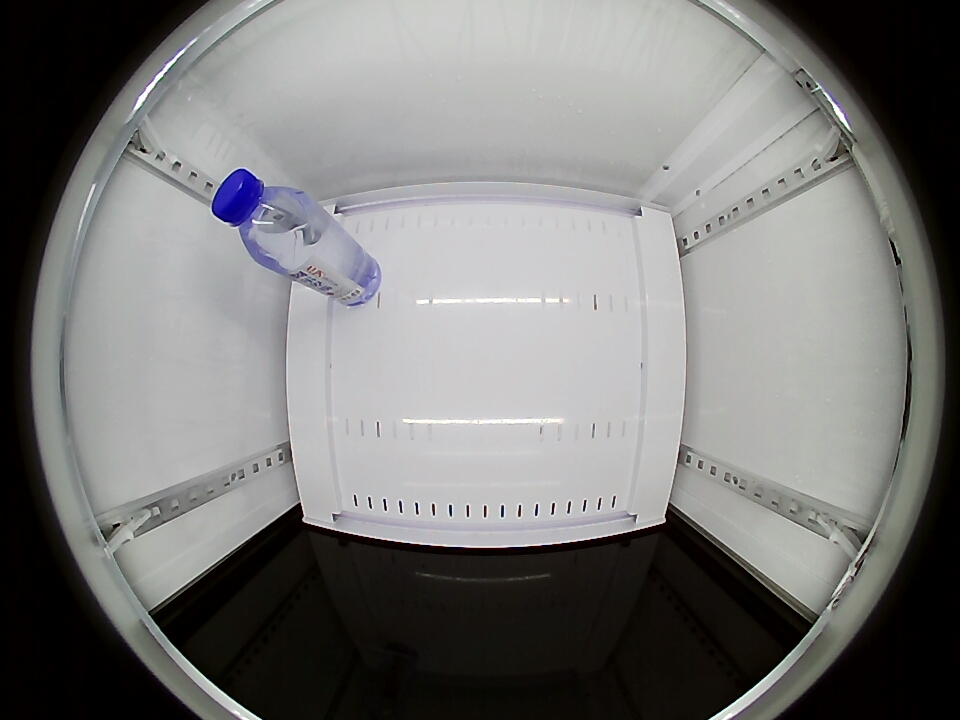aerbeisi: (211, 168, 312, 268)
